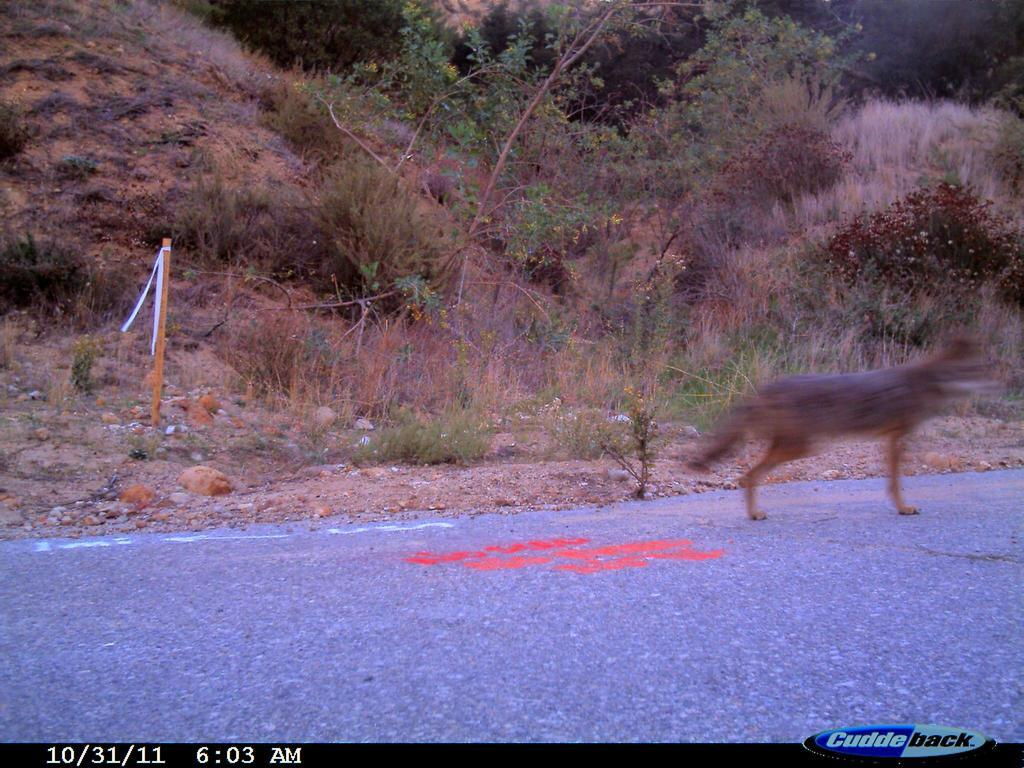coyote: (684, 331, 1008, 527)
